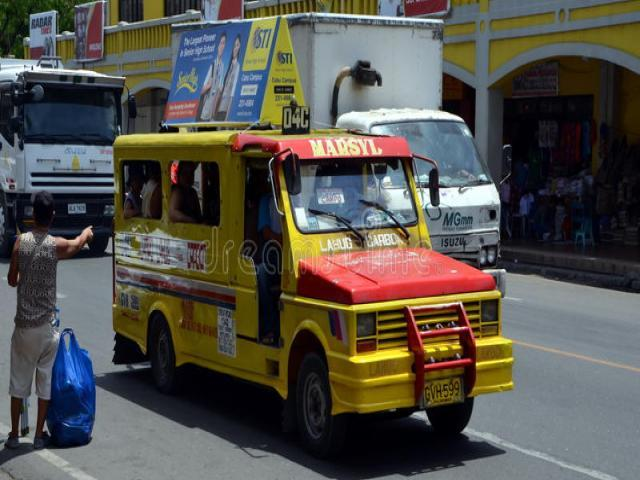jeepney: (108, 122, 522, 452)
